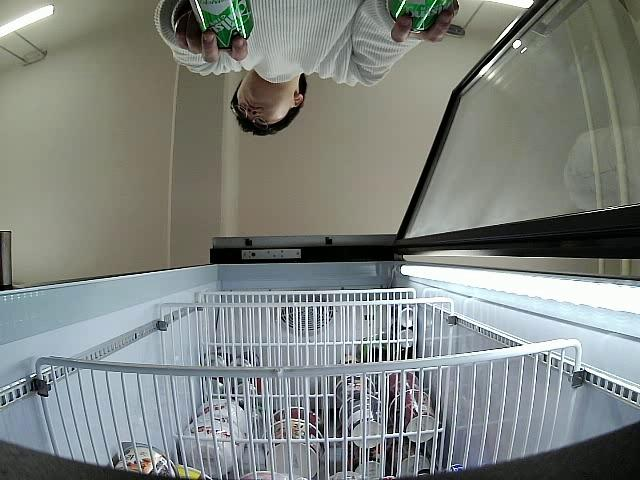00_hand: (172, 5, 247, 64), (392, 0, 459, 44)
12_chilsungCider: (185, 0, 254, 51), (387, 0, 455, 34)
